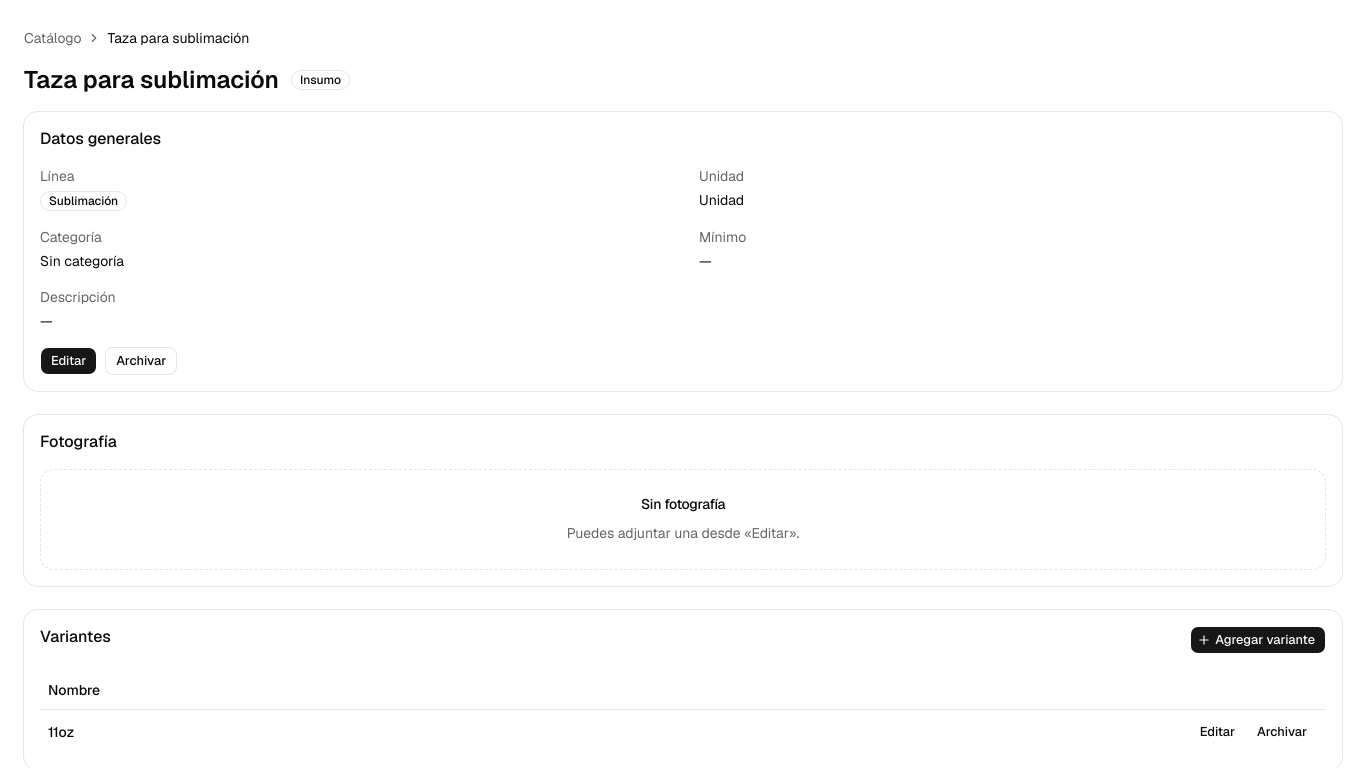
Test: ItemDetail › una variante duplicada muestra el error que devuelve el servidor
Click the button "Agregar variante" at [1258, 640], box [1190,626,1326,654]
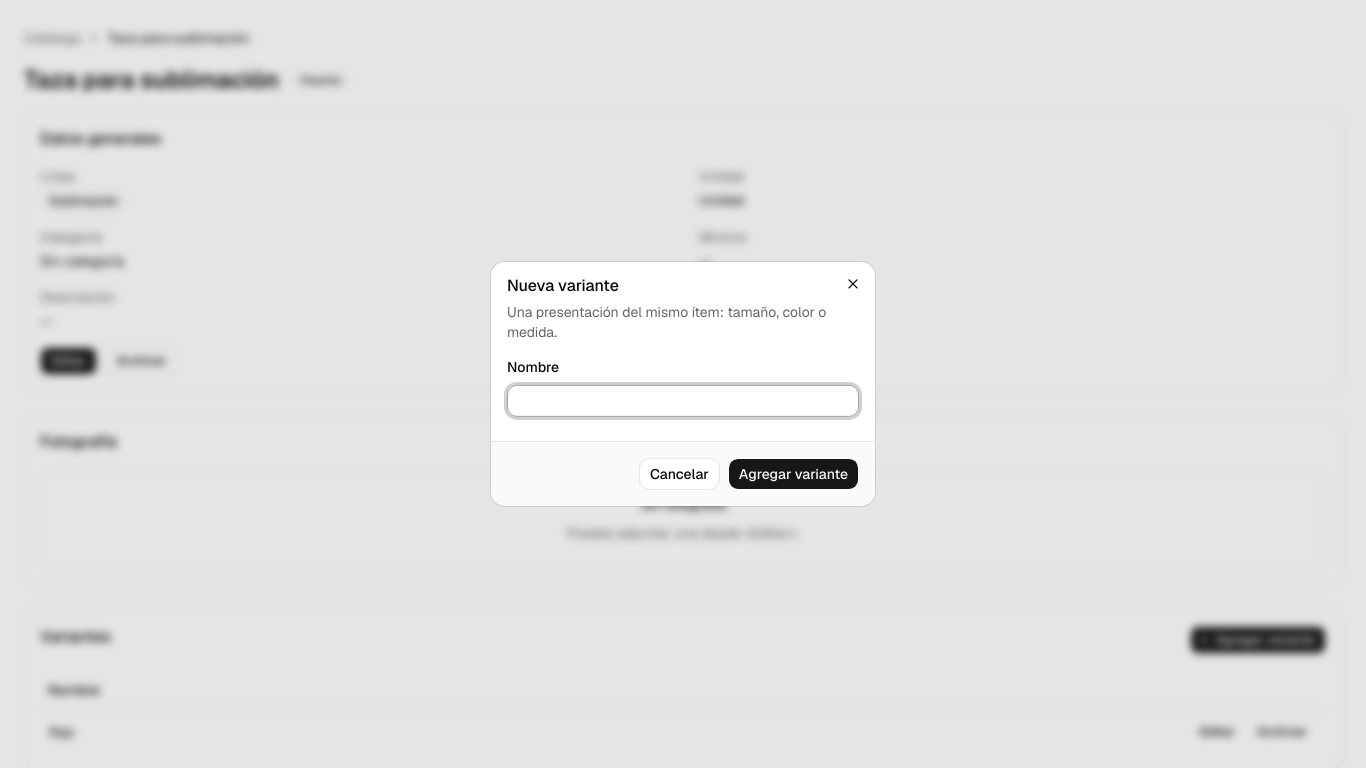
Type "11oz" into the field labelled "Nombre" at [683, 401], box [507,385,859,417]
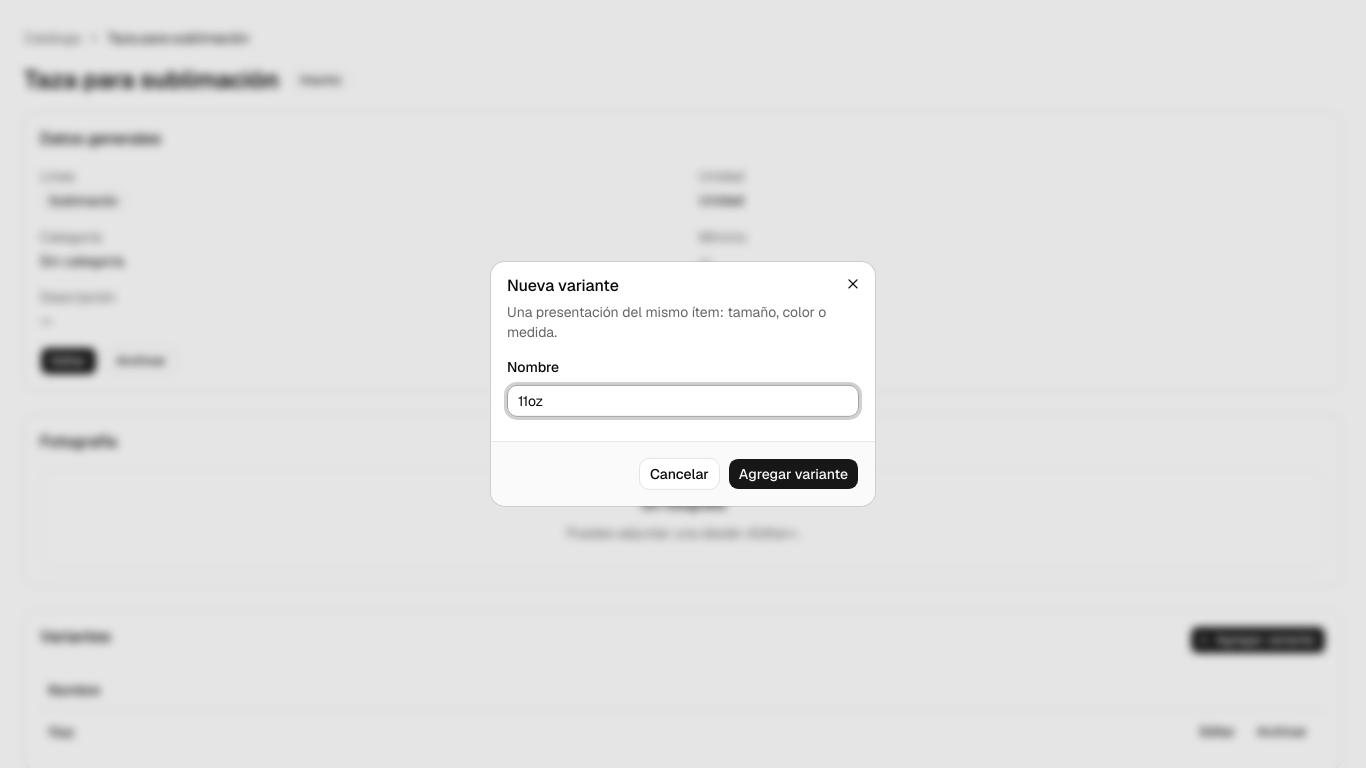
Click the button "Agregar variante" at [793, 474], box [728,458,859,490]
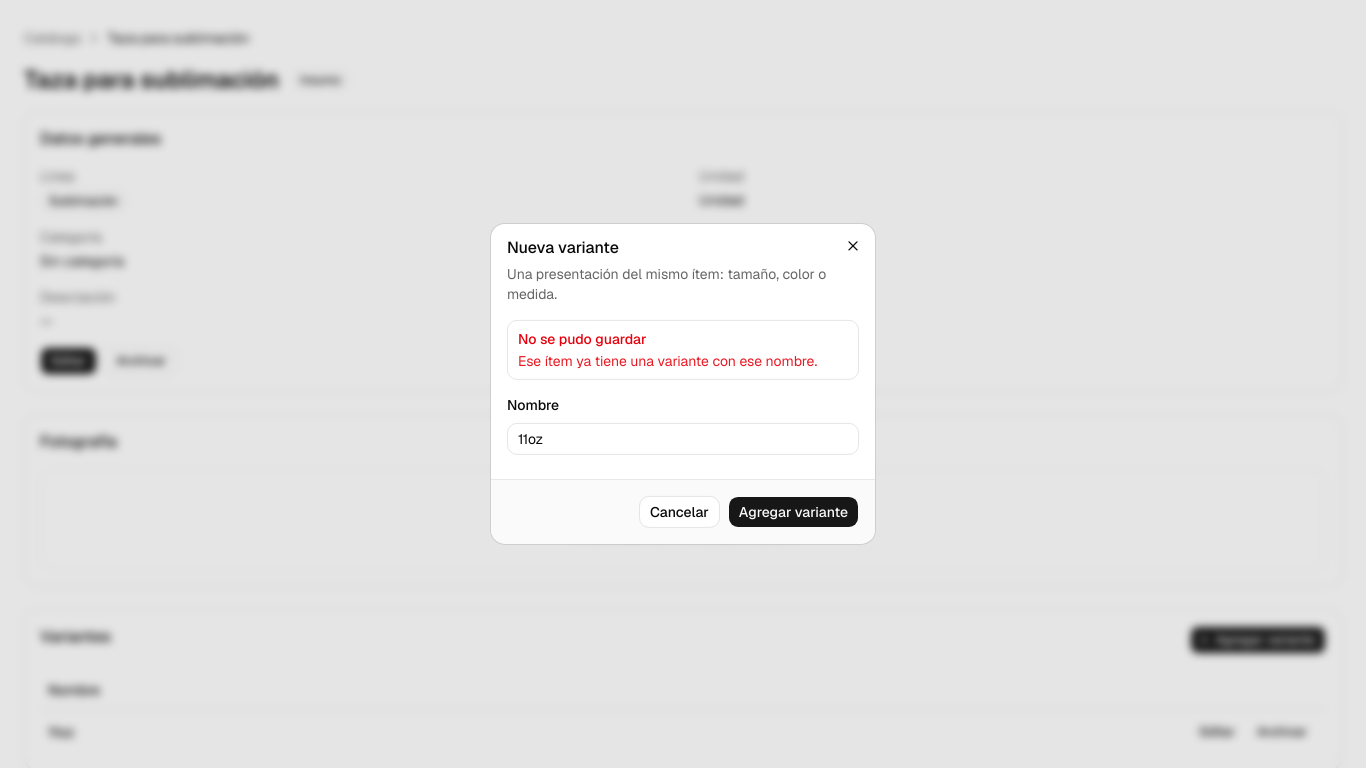
Expected: the message shows "Ese ítem ya tiene una variante con ese nombre.", [518,352,817,370]
